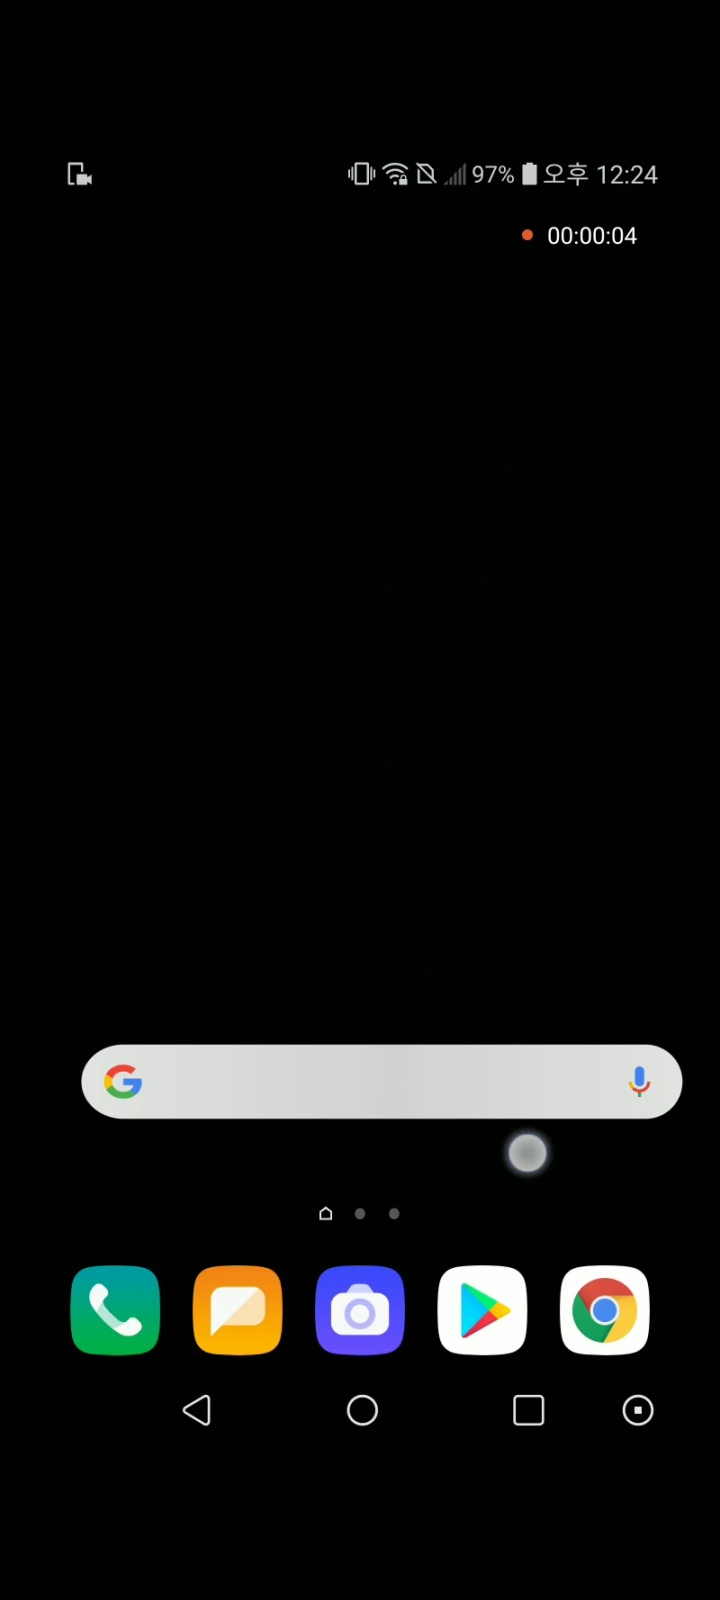Cursor: (507, 1132, 552, 1177)
